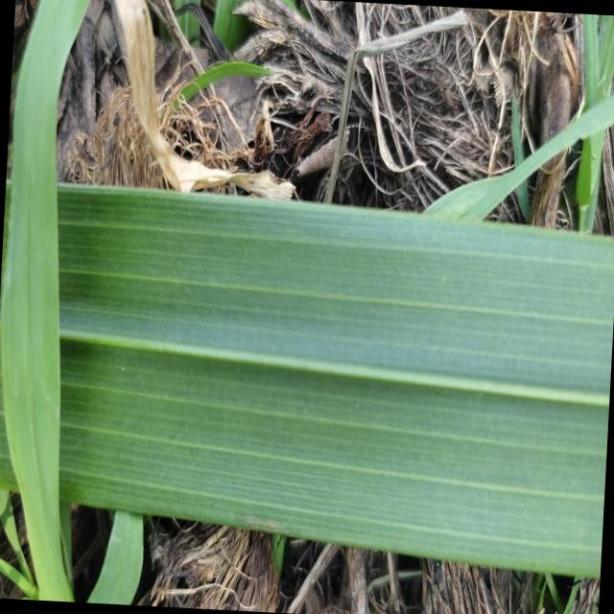Healthy: (0, 181, 614, 582)
